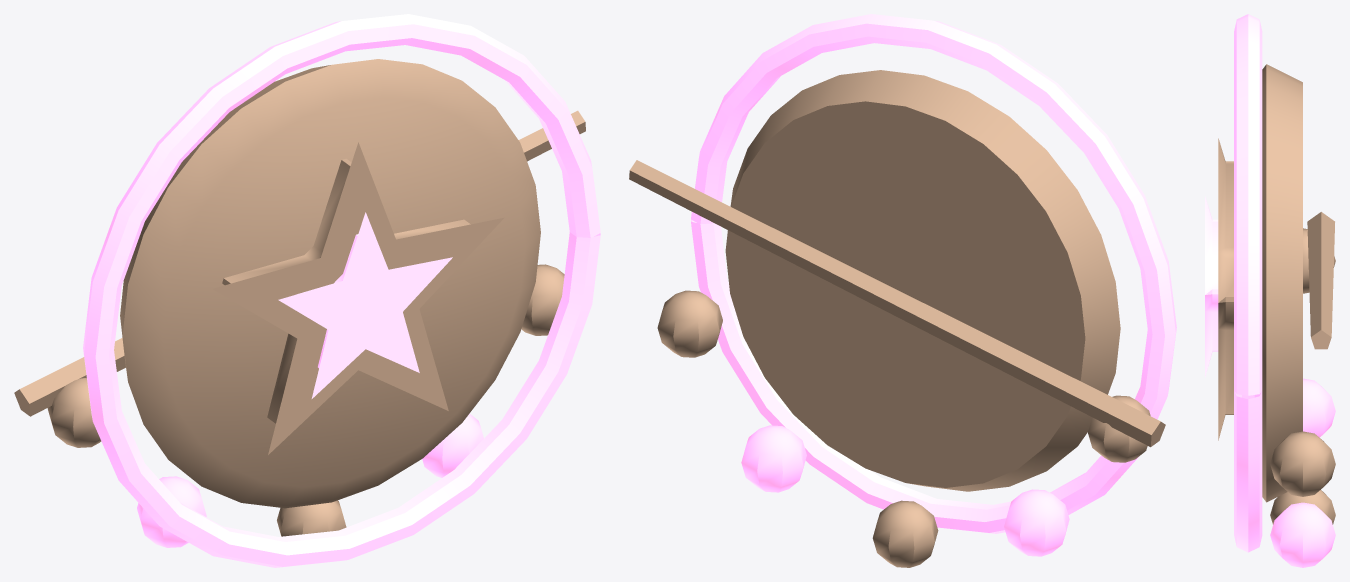
Rendered from asc_endless_volley_accessory.glb.
3 views of the same model, side by side, from view 1: azimuth 30°, elevation 25°; view 2: azimuth 150°, elevation 25°; view 3: azimuth 270°, elevation 25° (orthographic). The views are drawn at different scales.
Visible parts, largest first — view 1: asc_endless_volley_accessory; view 2: asc_endless_volley_accessory; view 3: asc_endless_volley_accessory.
Part boxes in pixels (box(x1,y1,x2,y2)): asc_endless_volley_accessory: box(14, 14, 600, 567); asc_endless_volley_accessory: box(629, 14, 1176, 567); asc_endless_volley_accessory: box(1205, 14, 1335, 567).
Size of the model in its own units: 0.1616 by 0.153 by 0.0358.
